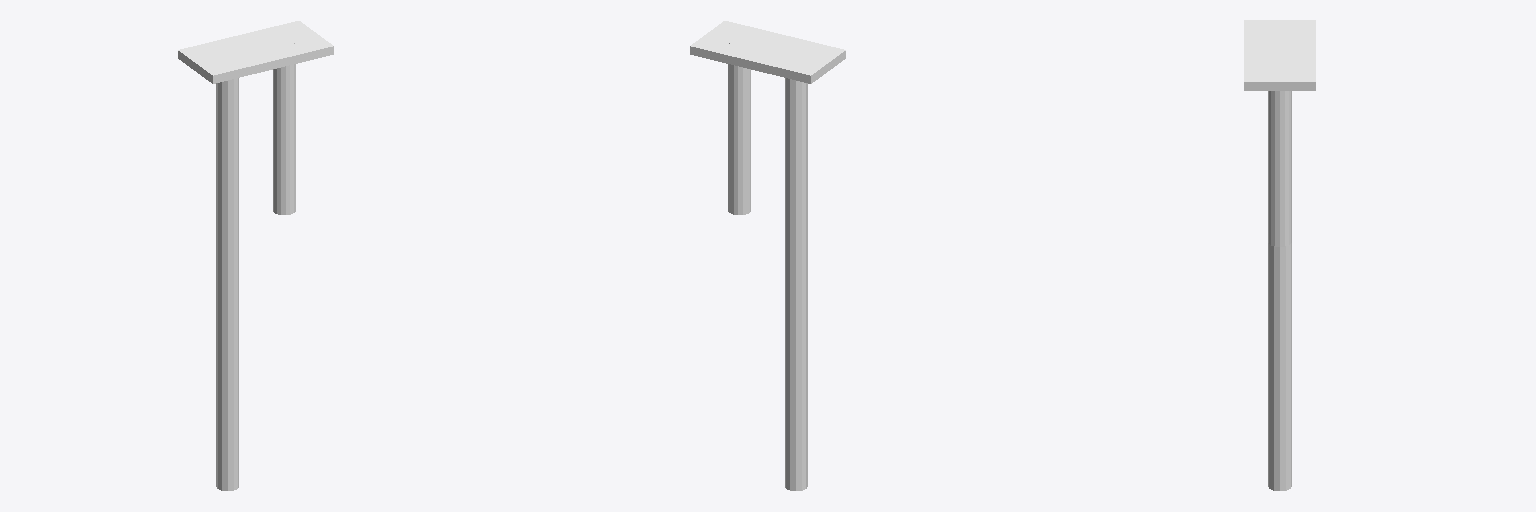
robot.urdf — force_control:
<?xml version="1.0" encoding="utf-8"?>
<!-- This URDF was automatically created by SolidWorks to URDF Exporter! Originally created by [author] ([email redacted]) 
     Commit Version: 1.6.0-1-g15f4949  Build Version: 1.6.7594.29634
     For more information, please see http://wiki.ros.org/sw_urdf_exporter -->
<robot
  name="force_control">

   <mujoco>
         <compiler 
         meshdir="./meshes/" 
         balanceinertia="true" 
         discardvisual="false" />
 </mujoco>

  <link name="world"/>
  <joint name="fixed_base" type="fixed">
     <origin rpy="0 0 0" xyz="0 0 0"/>
     <parent link="world"/>
     <child link="base_link"/>
  </joint>
 
  <link
    name="base_link">
    <inertial>
      <origin
        xyz="0 0 0"
        rpy="0 0 0" />
      <mass
        value="0.0028242" />
      <inertia
        ixx="3.2129E-06"
        ixy="-2.0388E-07"
        ixz="2.8846E-23"
        iyy="1.1508E-07"
        iyz="2.7695E-22"
        izz="3.2882E-06" />
    </inertial>
    <visual>
      <origin
        xyz="0 0 0"
        rpy="0 0 0" />
      <geometry>
        <mesh
          filename="./base.STL" />
      </geometry>
      <material
        name="">
        <color
          rgba="1 1 1 1" />
      </material>
    </visual>
    <collision>
      <origin
        xyz="0 0 0"
        rpy="0 0 0" />
      <geometry>
        <mesh
          filename="./base.STL" />
      </geometry>
    </collision>
  </link>
  <link
    name="link1">
    <inertial>
      <origin
        xyz="0.02 -1.7347E-18 -2.4691E-18"
        rpy="0 0 0" />
      <mass
        value="0.05" />
      <inertia
        ixx="2.4544E-09"
        ixy="-7.5888E-41"
        ixz="3.635E-40"
        iyy="1.0595E-07"
        iyz="0"
        izz="1.0595E-07" />
    </inertial>
    <visual>
      <origin
        xyz="0 0 0"
        rpy="0 0 0" />
      <geometry>
        <mesh
          filename="./link1.STL" />
      </geometry>
      <material
        name="">
        <color
          rgba="1 1 1 1" />
      </material>
    </visual>
    <collision>
      <origin
        xyz="0 0 0"
        rpy="0 0 0" />
      <geometry>
        <mesh
          filename="./link1.STL" />
      </geometry>
    </collision>
  </link>
  <joint
    name="joint1"
    type="prismatic">
    <origin
      xyz="0.014 0 0.062"
      rpy="1.5708 -1.5708 0" />
    <parent
      link="base_link" />
    <child
      link="link1" />
    <axis
      xyz="1 0 0" />
    <limit
      lower="0"
      upper="0"
      effort="0"
      velocity="0" />
  </joint>
</robot>

--- What the picture shows (computed from the rendered views, not written in the file) ---
Views: 3 orthographic renders of the robot side by side, from view 1: azimuth 30°, elevation 25°; view 2: azimuth 150°, elevation 25°; view 3: azimuth 270°, elevation 25°.
Model force_control with 3 links and 2 joints (1 prismatic, 1 fixed), rooted at world, posed all joints at 0.
Links seen in each view (by area): view 1: base_link, link1; view 2: base_link, link1; view 3: base_link, link1.
Link boxes in pixels (x1=…): base_link: x1=178, y1=21, x2=333, y2=490; link1: x1=273, y1=36, x2=295, y2=214; base_link: x1=690, y1=21, x2=845, y2=490; link1: x1=728, y1=36, x2=750, y2=214; base_link: x1=1244, y1=20, x2=1315, y2=490; link1: x1=1268, y1=61, x2=1291, y2=246.
Bounding box of the posed robot: 0.03 × 0.015 × 0.102 m (x, y, z).
Meshes: 2 distinct files referenced, 2 mesh visuals loaded (2 binary STL).